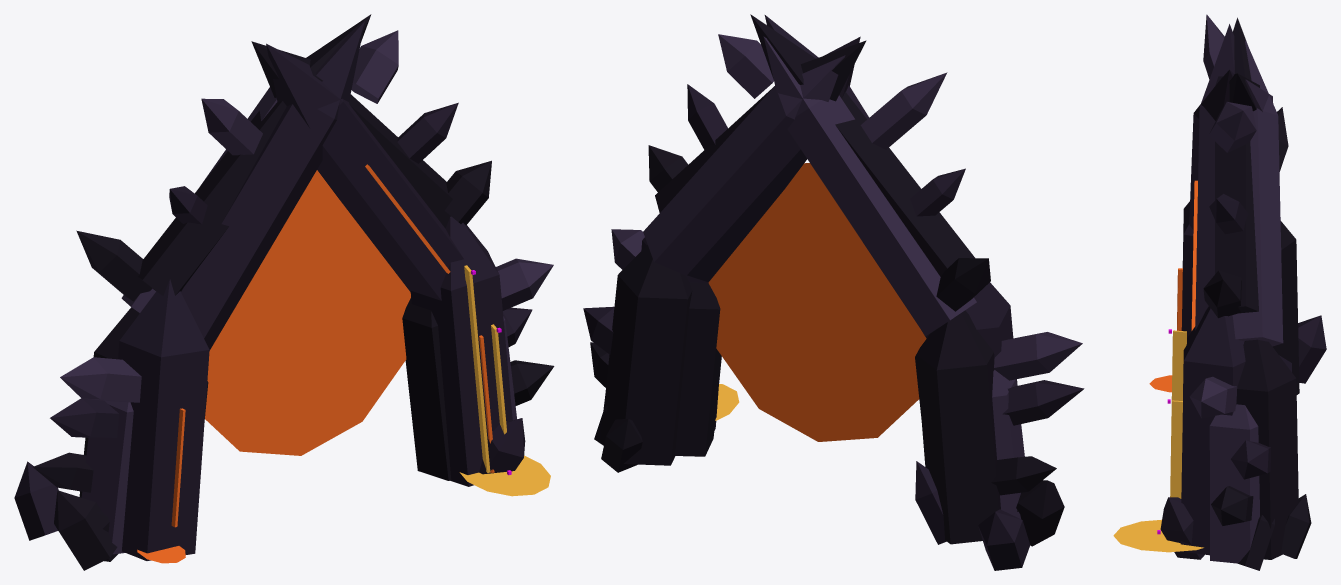
Rendered from PortalArena.fbx.
The picture shows the model from 3 angles, left to right: view 1: azimuth 30°, elevation 25°; view 2: azimuth 150°, elevation 25°; view 3: azimuth 270°, elevation 25°; orthographic projection. The views are drawn at different scales.
Parts seen in each view (by area): view 1: Frame, Opening, Lava; view 2: Frame, Opening; view 3: Frame, Lava.
Boxes of the visible parts, left/top/right/bottom form: Frame: left=14, top=14, right=554, bottom=570; Opening: left=205, top=170, right=410, bottom=455; Lava: left=137, top=164, right=550, bottom=563; Frame: left=583, top=14, right=1084, bottom=570; Opening: left=708, top=163, right=926, bottom=441; Frame: left=1160, top=14, right=1326, bottom=570; Lava: left=1113, top=180, right=1203, bottom=552.
Size of the model in its own units: 33.1 by 29.92 by 13.06.
Materials: 1 (1 with a texture image).
